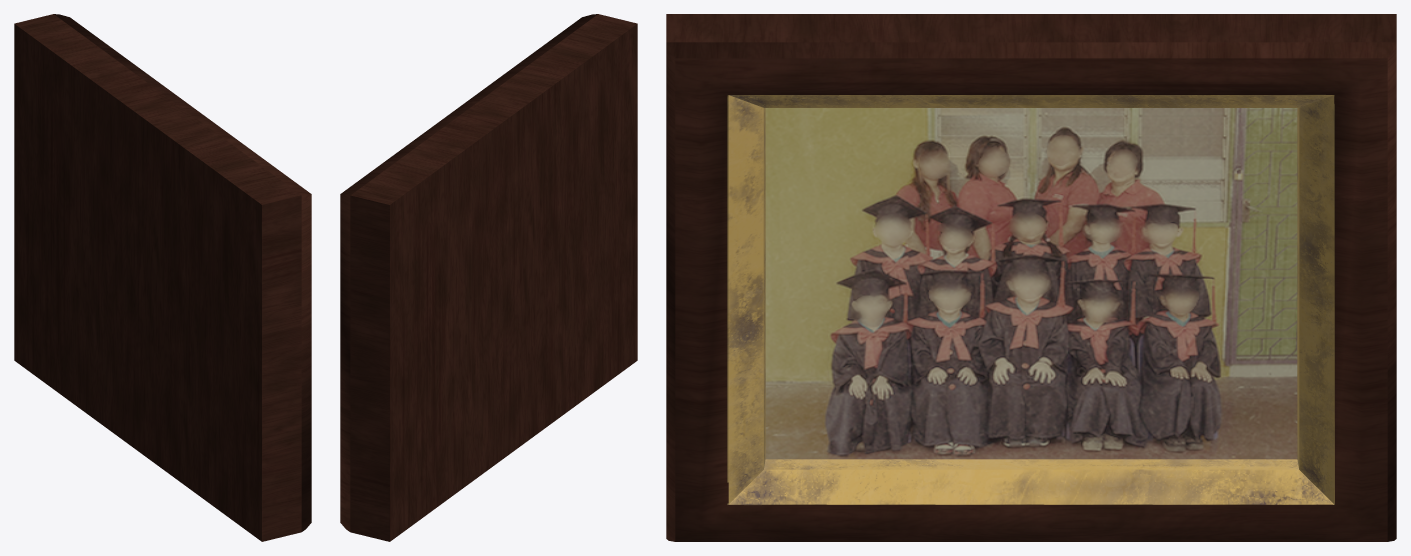
Rendered from frame2_1_kindergrarten graduation.FBX.
The picture shows the model from 3 angles, left to right: view 1: azimuth 30°, elevation 25°; view 2: azimuth 150°, elevation 25°; view 3: azimuth 270°, elevation 25°; orthographic projection. The views are drawn at different scales.
Parts seen in each view (by area): view 1: frame007; view 2: frame007; view 3: frame007.
Part boxes in pixels (<box>): frame007: <box>14,14,311,541</box>; frame007: <box>340,14,637,541</box>; frame007: <box>666,14,1396,541</box>.
Bounding box in the file's own units: 3.74 × 20.53 × 27.37.
1 material, 1 textured.
